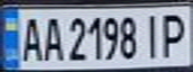1: (84, 12, 106, 61)
2: (63, 12, 87, 62)
8: (118, 12, 142, 61)
9: (103, 12, 121, 61)
A: (39, 12, 66, 63), (18, 12, 45, 63)
I: (139, 10, 166, 60)
P: (157, 9, 190, 58)
